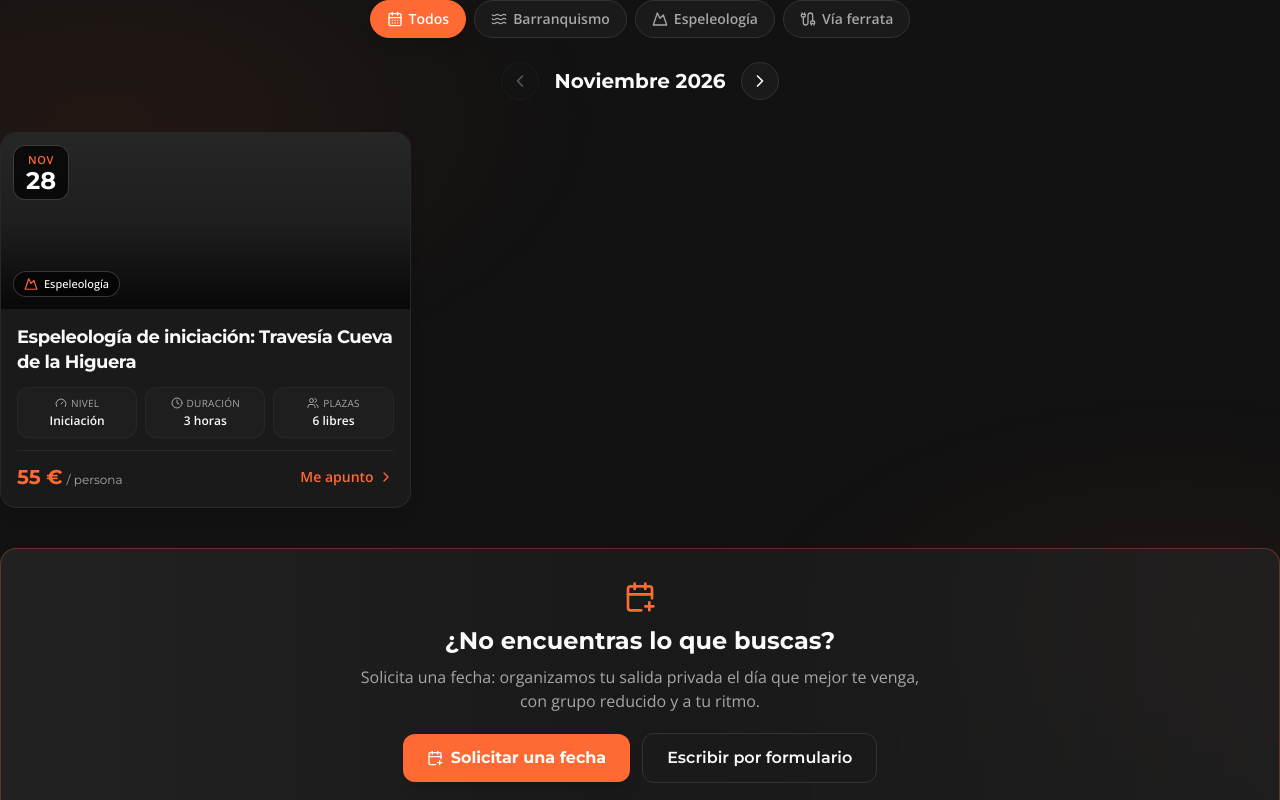
opens the full technical sheet and keeps booking available in every section
The width and height of the screenshot is (1280, 800).
Later steps or results of the test are not shown.
Click the button named "Me apunto a Espeleología de iniciación: Travesía Cueva de la Higuera" at point(205, 320), box [1,133,410,506]
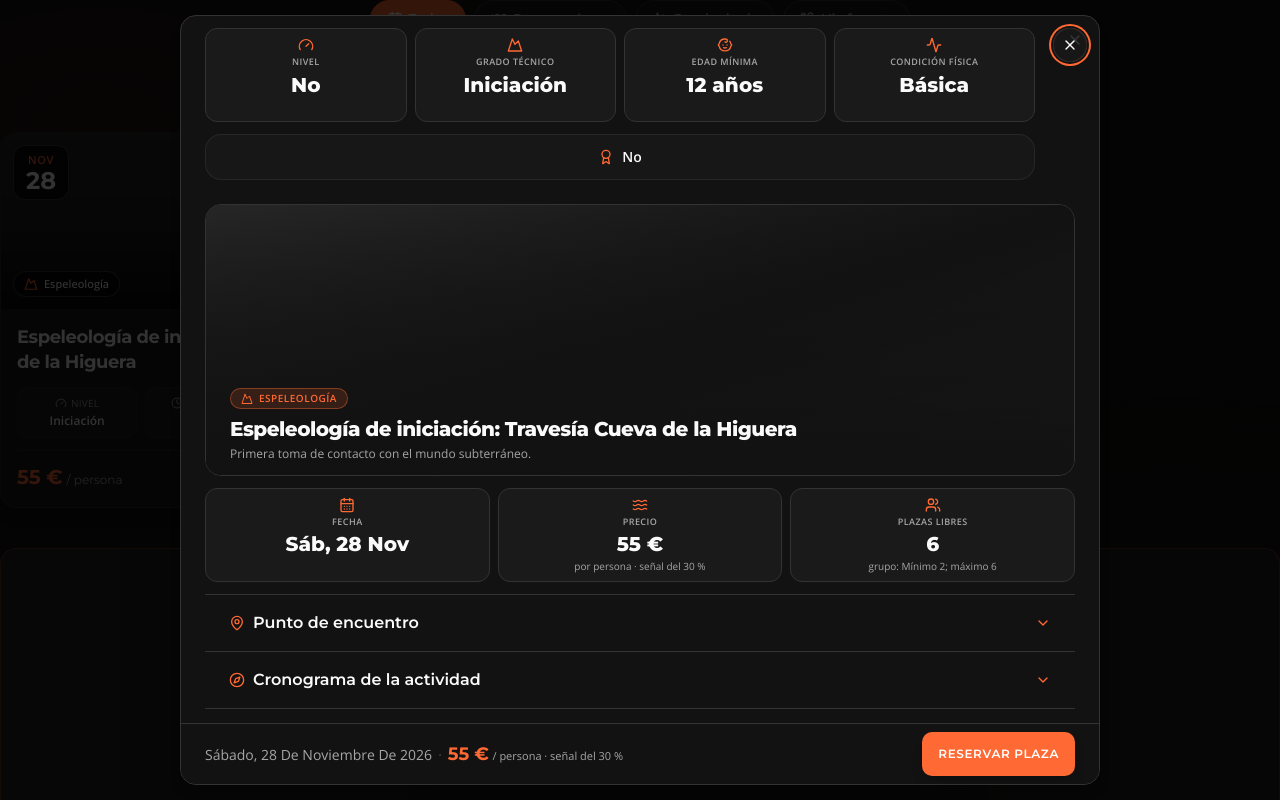
Check: the dialog is shown
